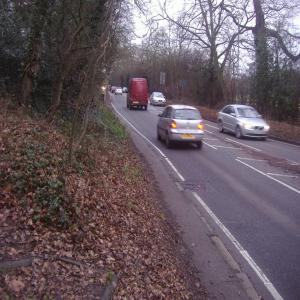Vehicle-registration-plate: (184, 135, 196, 139), (256, 132, 265, 135), (134, 102, 139, 105)
